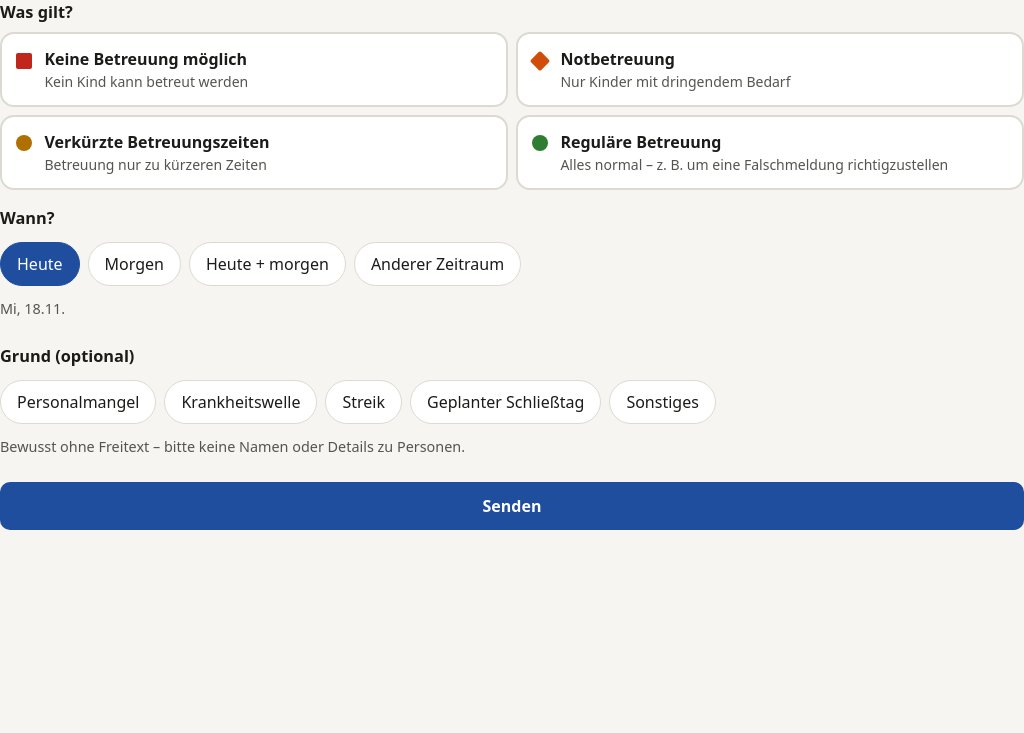
MeldeFormular › zeigt Fehler des Servers (problem+json) an
Click the radio button labelled "Notbetreuung Nur Kinder mit dringendem Bedarf" at (770, 70), box [516, 32, 1023, 107]
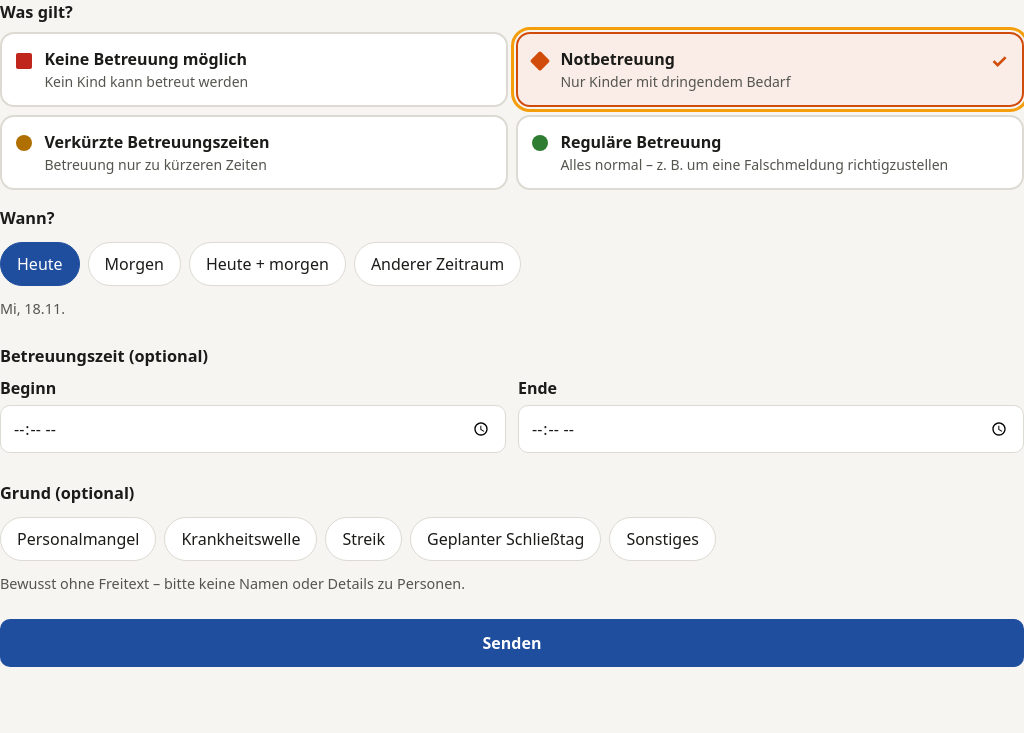
Click the button "Senden" at (512, 643), box [0, 619, 1023, 667]
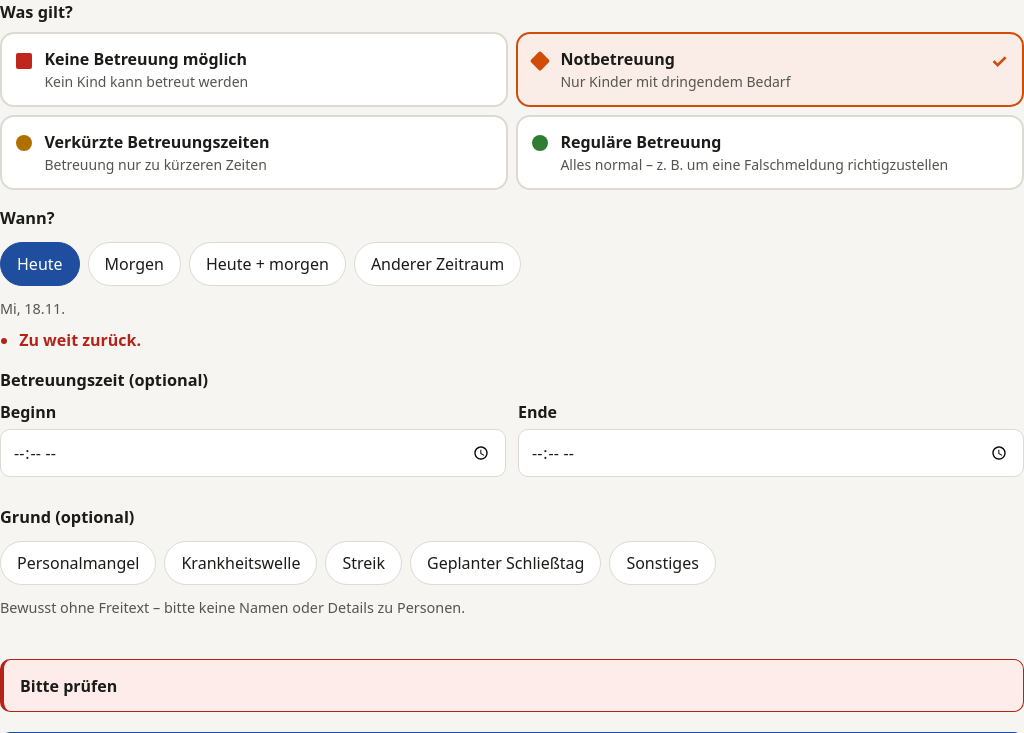
Check: the text "Bitte prüfen" is shown, box [20, 675, 117, 697]
Check: the list item "Zu weit zurück." is shown, box [19, 329, 141, 351]
